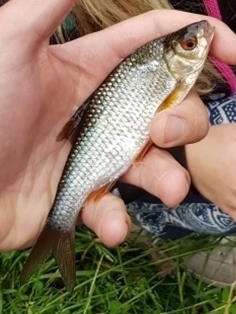Rutilus rutilus: (20, 20, 216, 294)
